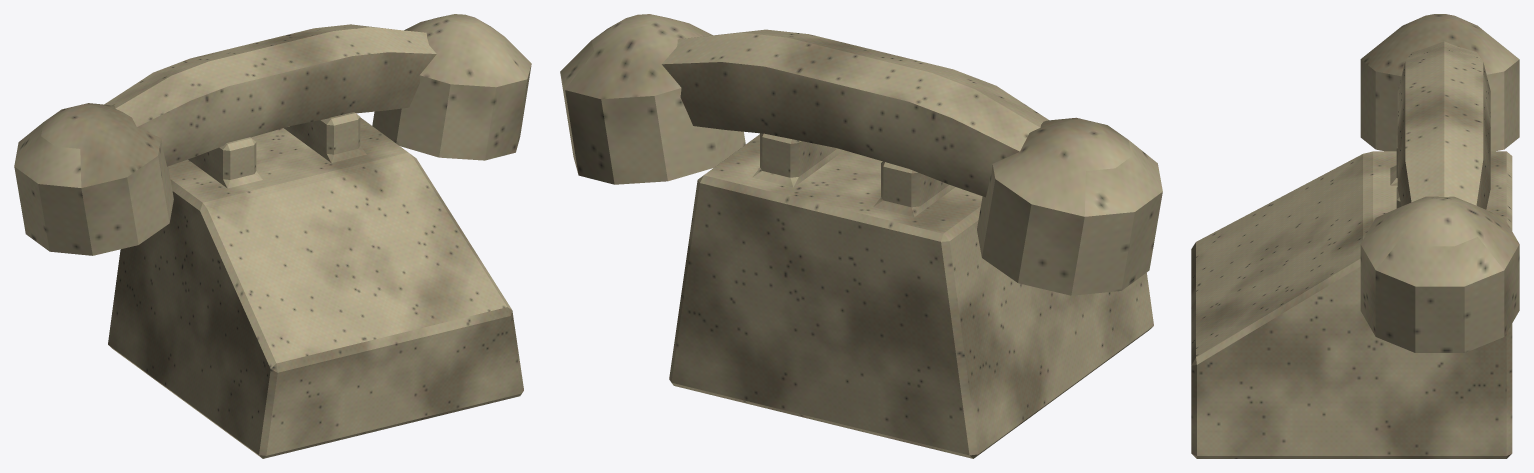
File: Telephone.fbx
3 views of the same model, side by side, from view 1: azimuth 30°, elevation 25°; view 2: azimuth 150°, elevation 25°; view 3: azimuth 270°, elevation 25° (orthographic). The views are drawn at different scales.
Parts seen in each view (by area): view 1: Telephone, Telephone.002, Telephone.001; view 2: Telephone, Telephone.002, Telephone.001; view 3: Telephone, Telephone.002, Telephone.001.
Boxes of the visible parts, x1=… form: Telephone: x1=108, y1=112, x2=523, y2=458; Telephone.002: x1=14, y1=14, x2=531, y2=255; Telephone.001: x1=104, y1=24, x2=436, y2=166; Telephone: x1=669, y1=133, x2=1153, y2=458; Telephone.002: x1=560, y1=14, x2=1162, y2=295; Telephone.001: x1=661, y1=29, x2=1048, y2=197; Telephone: x1=1191, y1=135, x2=1512, y2=458; Telephone.002: x1=1360, y1=14, x2=1519, y2=352; Telephone.001: x1=1397, y1=41, x2=1490, y2=209.
Bounding box in the file's own units: 0.3983 × 0.226 × 0.2237.
Materials: 1 (1 with a texture image).
